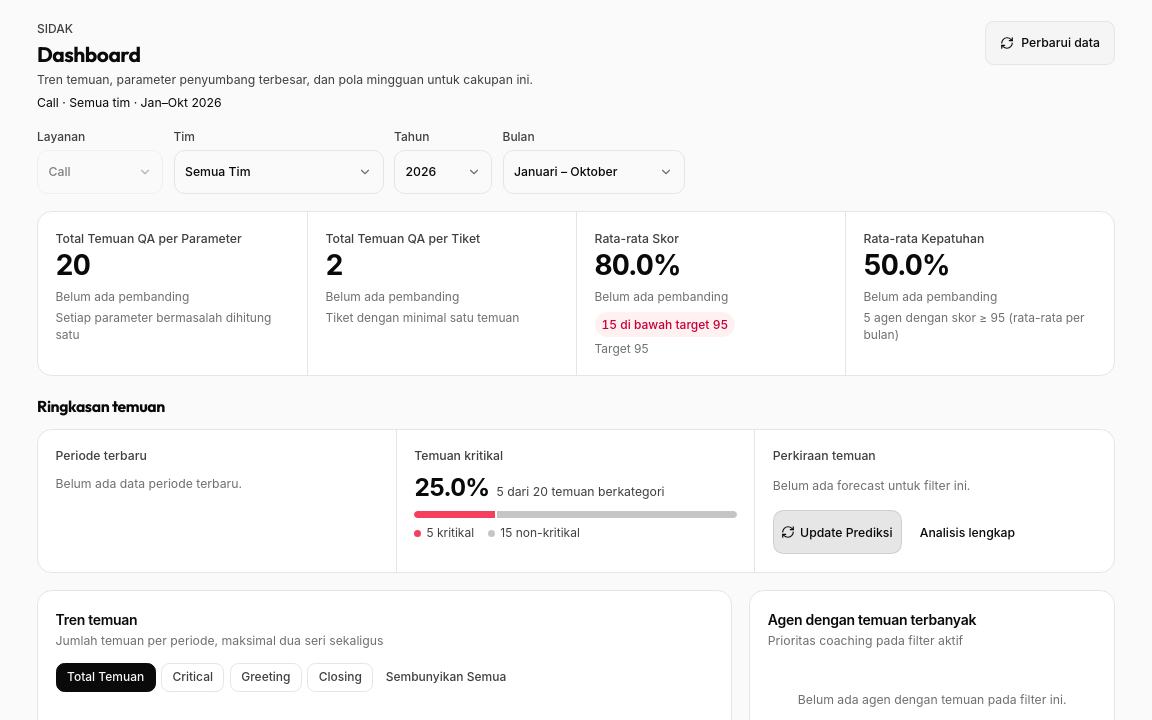
Test: SidakDashboardPage forecast state › limits visible parameters to two and unlocks another after one is unselected
The width and height of the screenshot is (1152, 720).
Click the button "Total Temuan" at [106, 677], box [56,663,156,692]
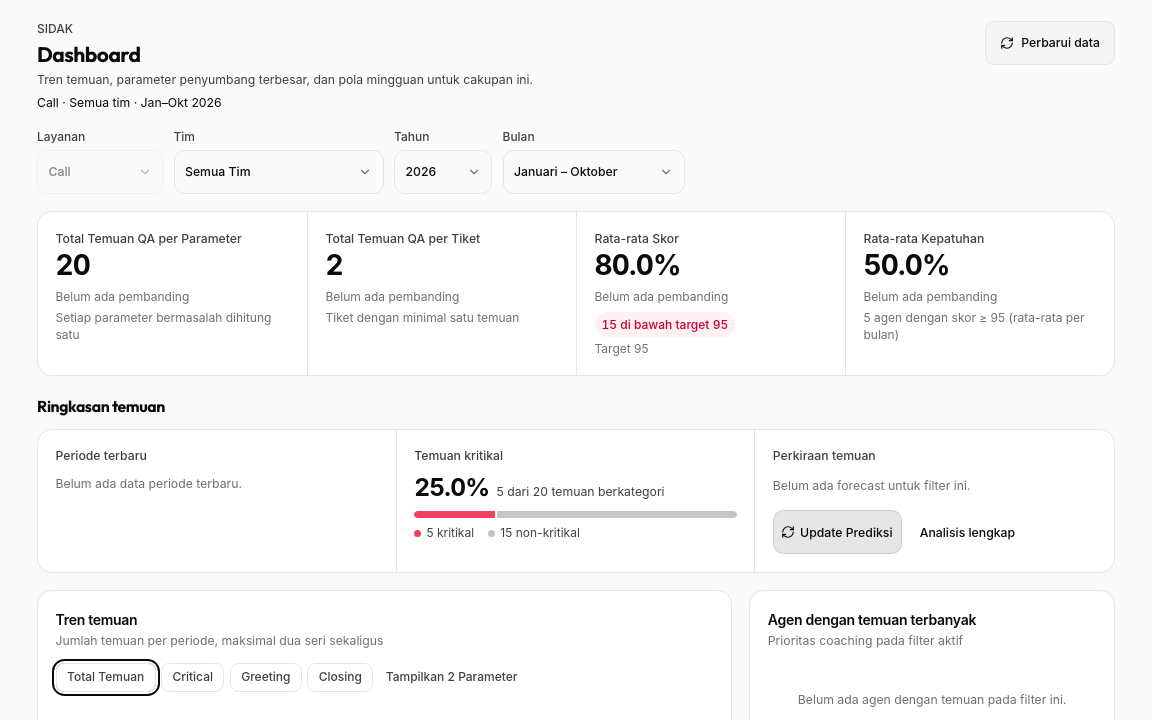
Click the button "Critical" at [193, 677], box [161,663,224,692]
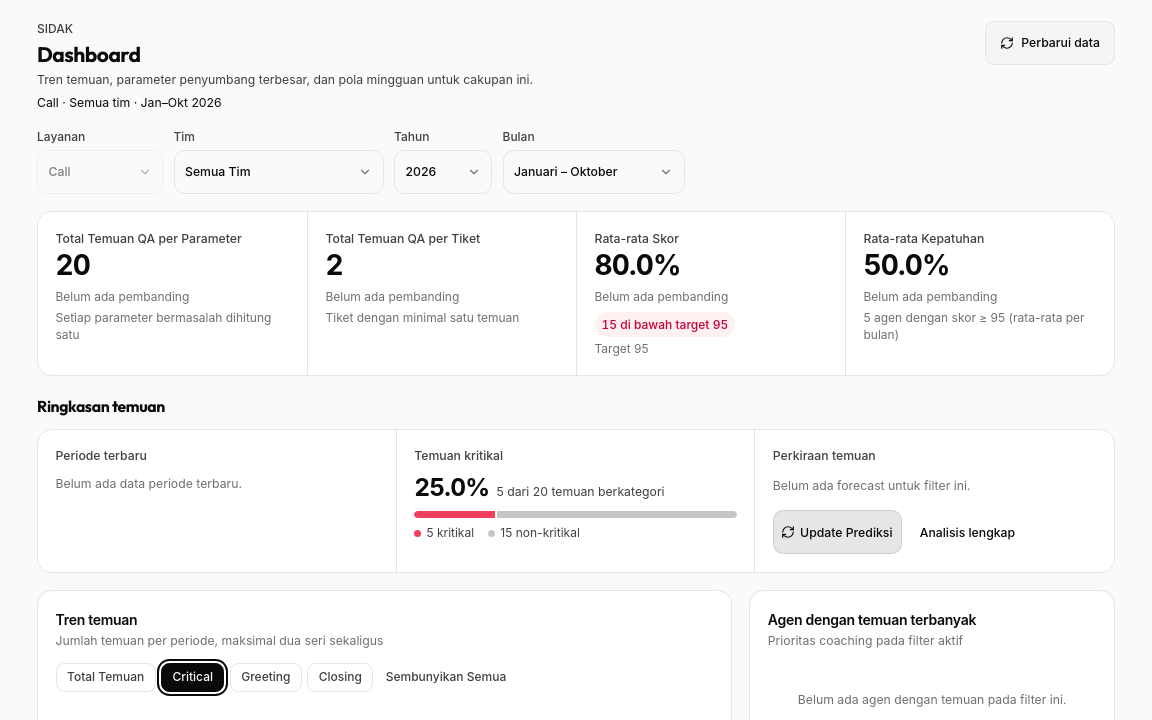
Click the button "Greeting" at [266, 677], box [230,663,302,692]
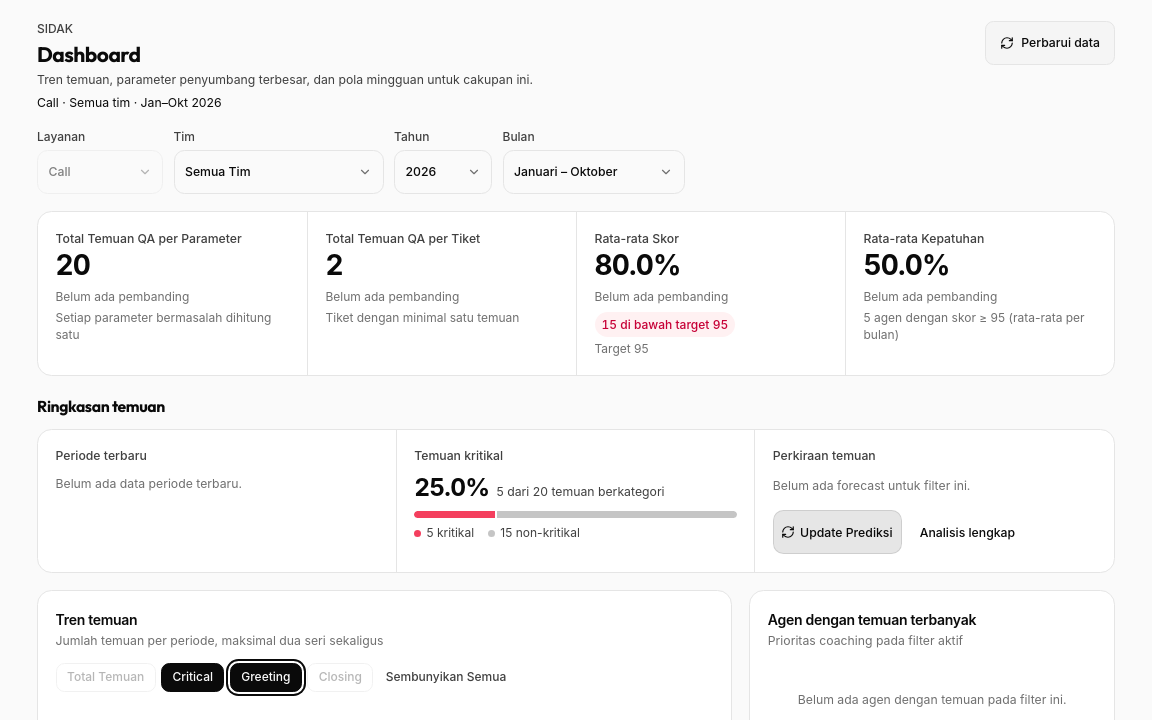
Result: the button "Closing" is disabled at [307,663,373,692]
Result: the button "Total Temuan" is disabled at [56,663,156,692]
Click the button "Critical" at [193, 677], box [161,663,224,692]
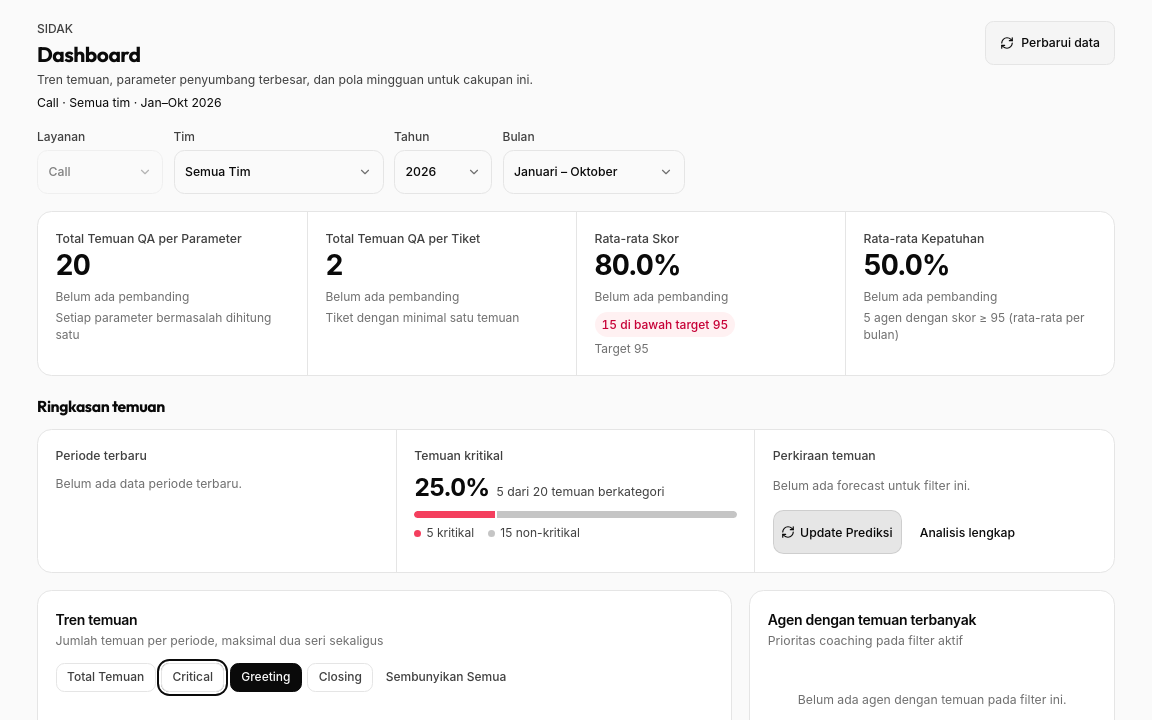
Result: the button "Closing" is enabled at [307,663,373,692]
Result: the button "Total Temuan" is enabled at [56,663,156,692]
